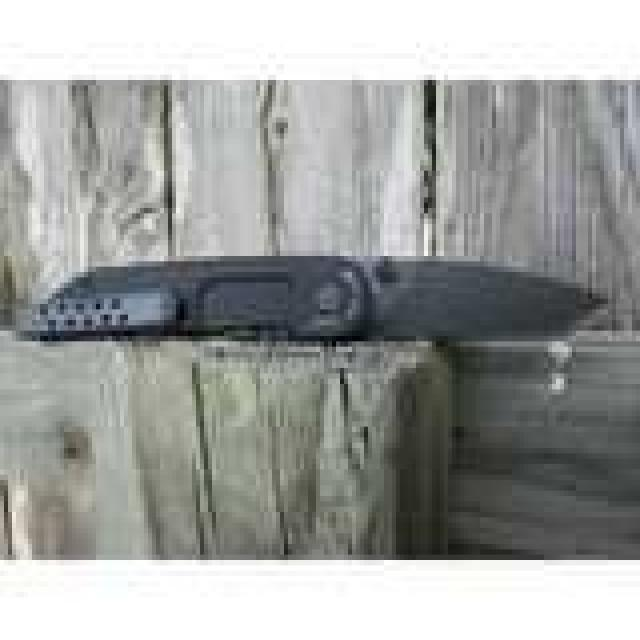knife: (14, 258, 606, 355)
